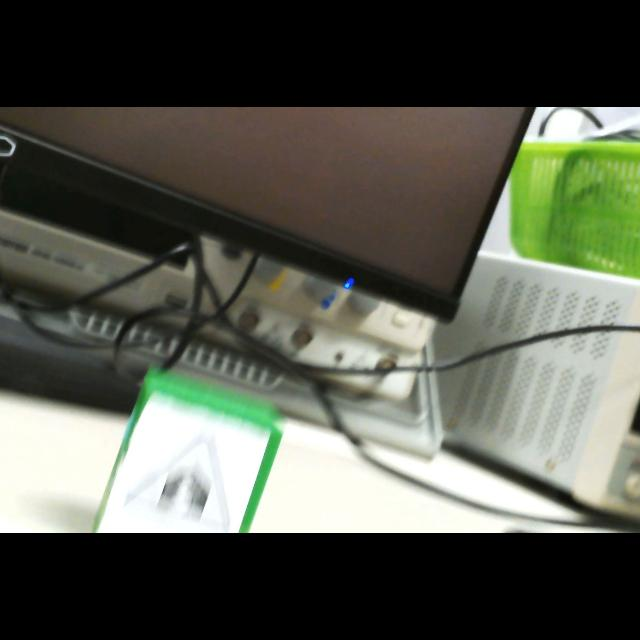Earthquake: (124, 435, 230, 530)
